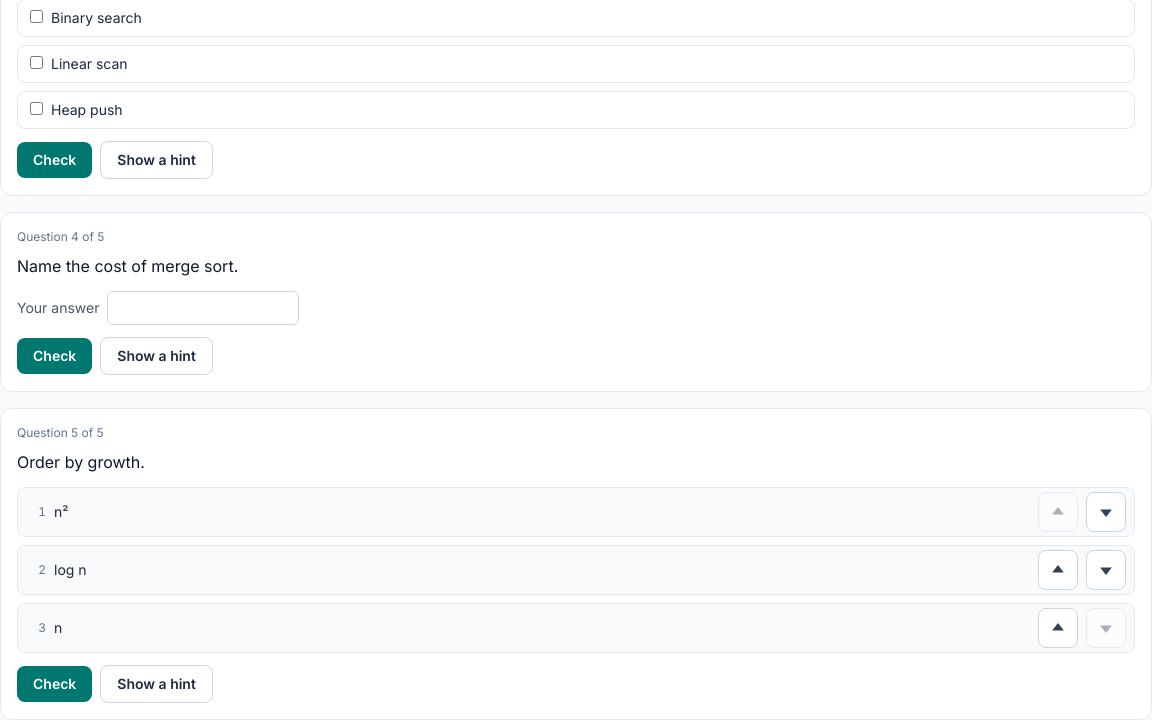
Test: PracticeBlock › reorders items with the move buttons and keeps focus on the moved item
(page scrolled)
Submit the form "1 n² 2 log n 3 n Check Show a hint", box [17, 487, 1135, 703]
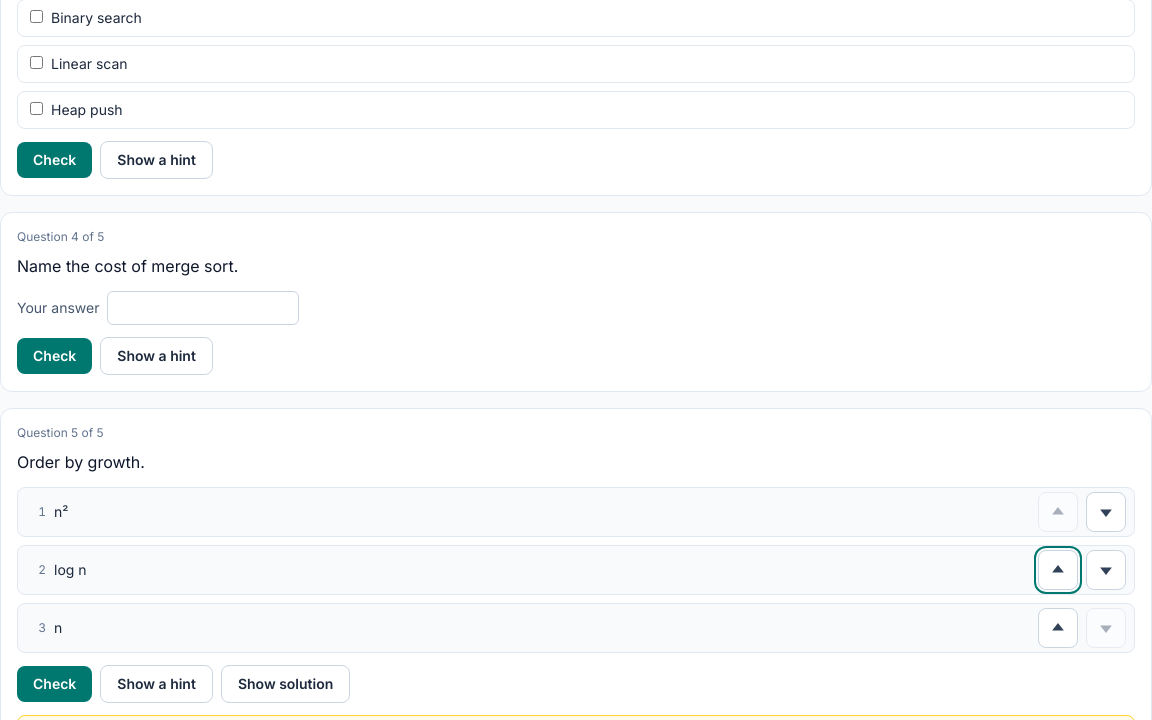
Click the button named "Move “log n” up". click: (1058,570)
box: [1038, 550, 1078, 590]
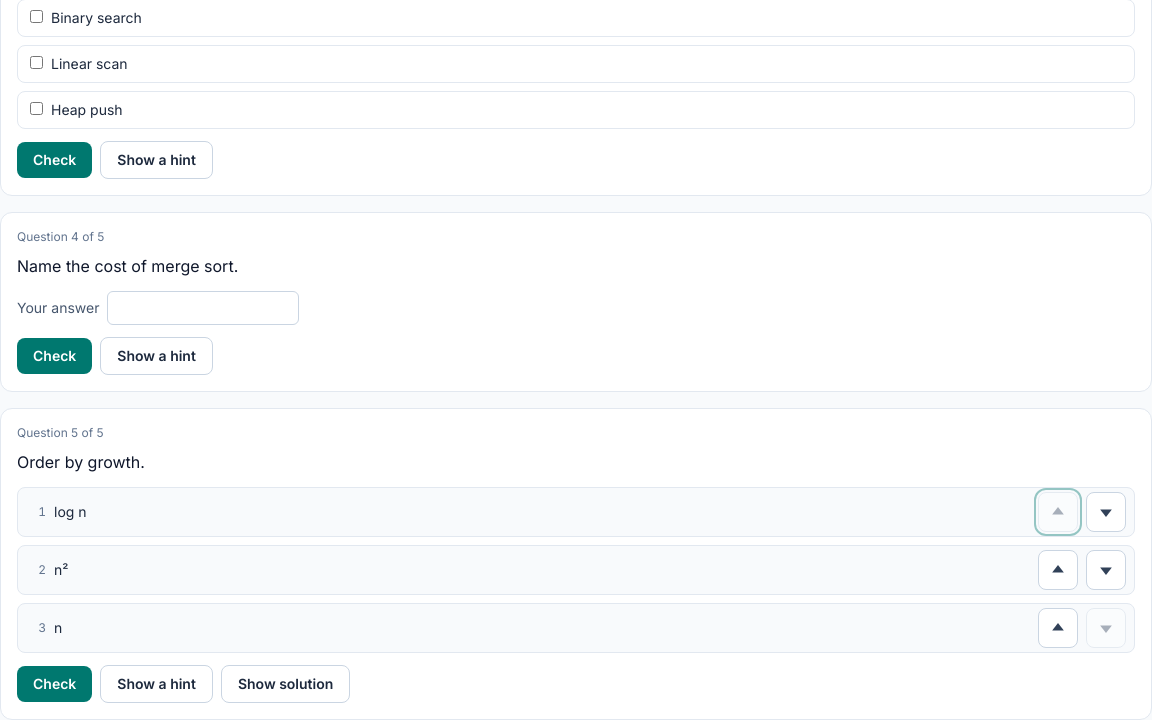
Click the button named "Move “n” up". click: (1058,628)
box: [1038, 608, 1078, 648]
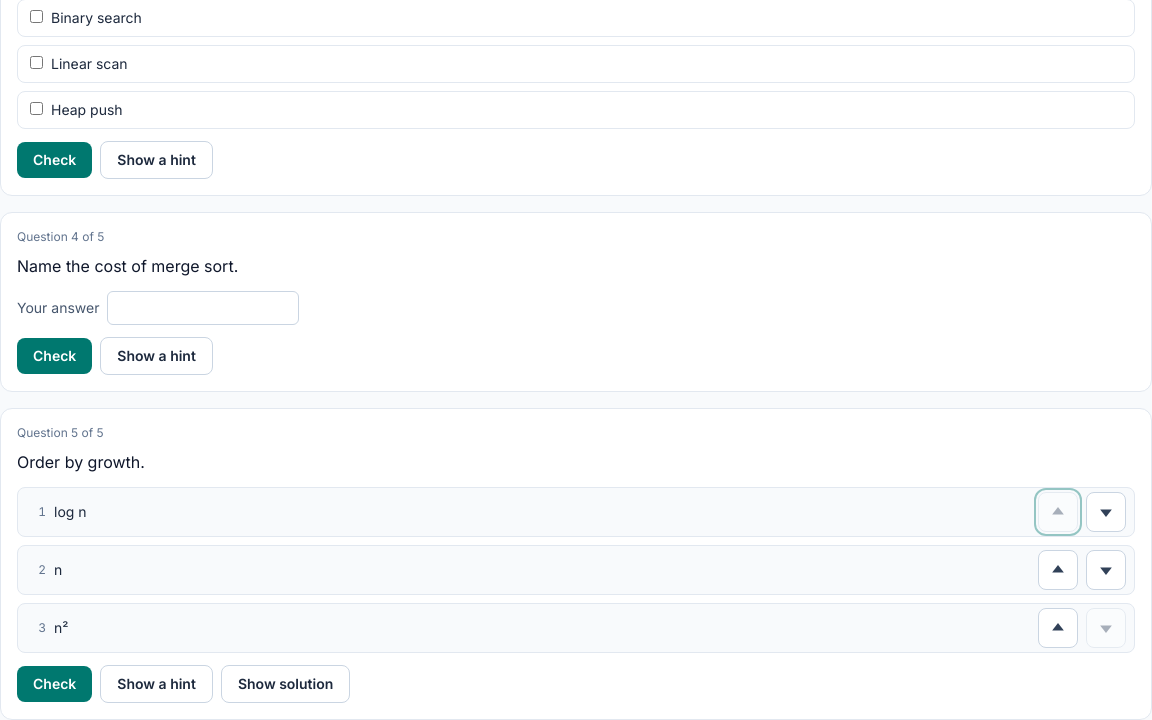
Submit the form "1 log n 2 n 3 n² Check Show a hint Show solution", box [17, 487, 1135, 703]
(page scrolled)
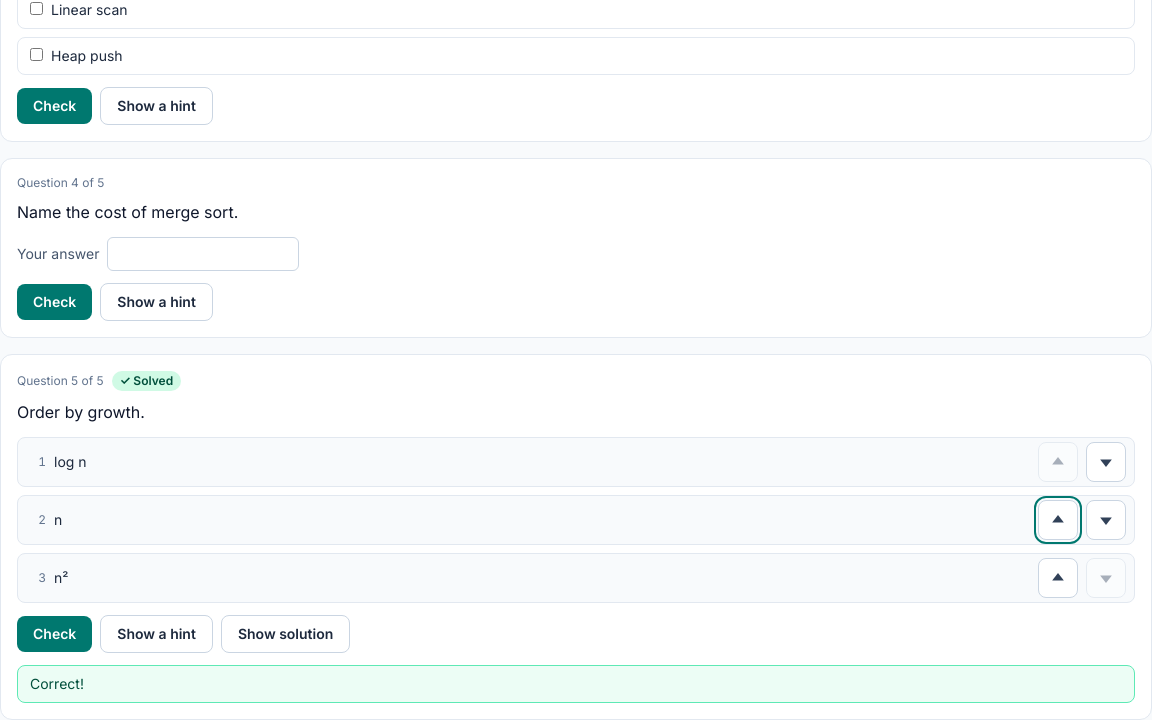
Result: the text "Correct!" is shown at [17, 665, 1135, 703]
